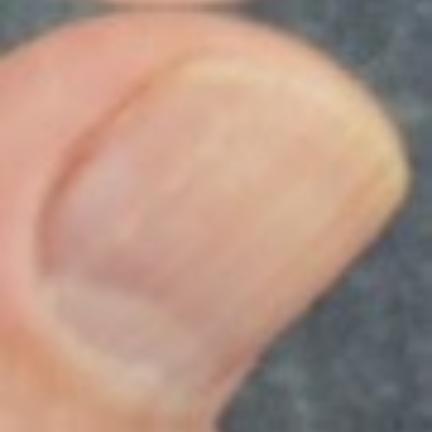Nail: (35, 54, 408, 397)
